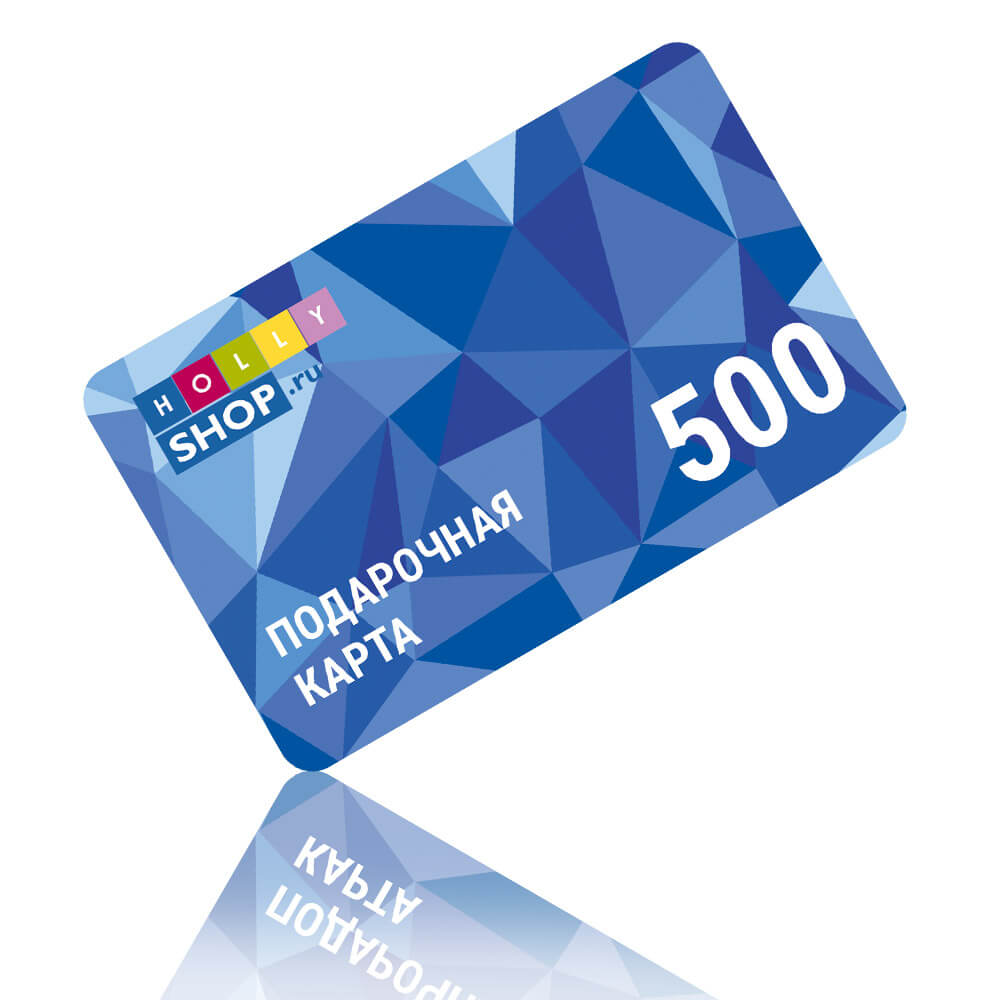card: (84, 42, 908, 774)
